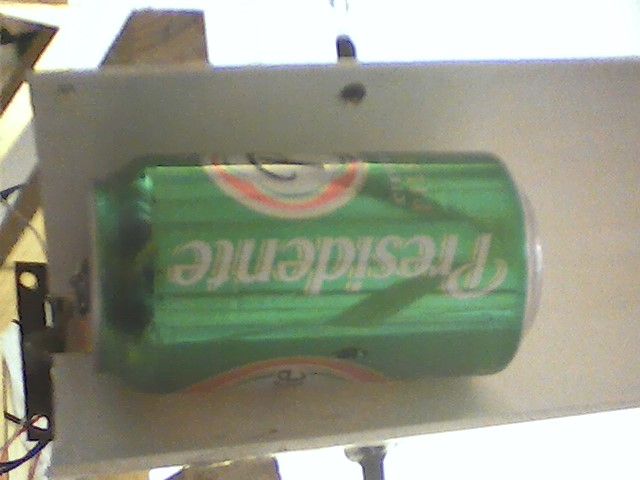lata: (78, 147, 536, 394)
